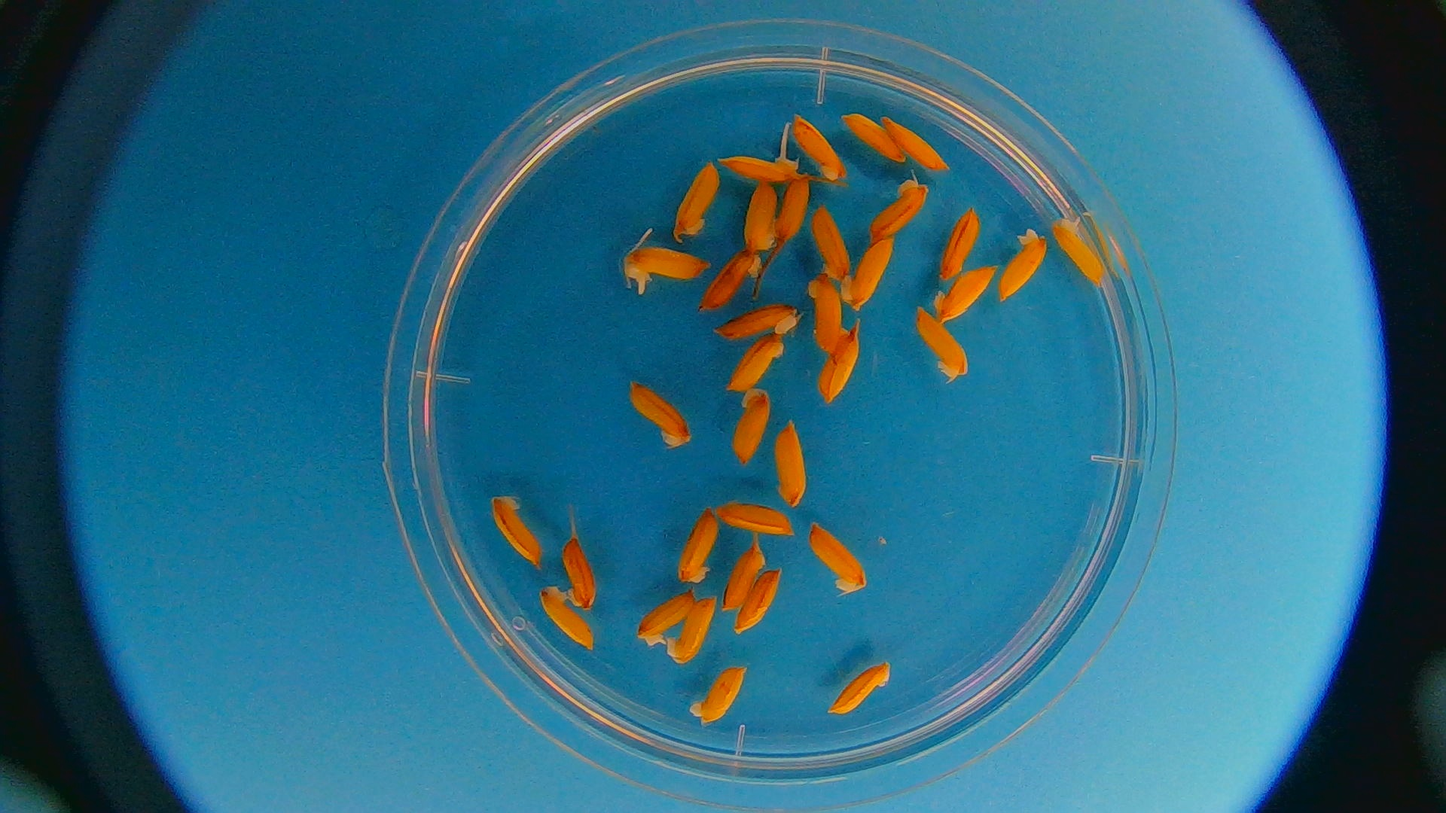no: (1047, 206, 1108, 287), (911, 303, 974, 380), (626, 381, 693, 449), (669, 157, 725, 238), (807, 521, 869, 594), (840, 236, 897, 309), (883, 111, 949, 173), (540, 585, 595, 658), (702, 251, 764, 315), (935, 257, 996, 321), (722, 335, 788, 394), (1001, 224, 1050, 303), (712, 493, 795, 539), (826, 661, 894, 717), (764, 422, 808, 507), (871, 180, 929, 242), (676, 504, 721, 583), (493, 492, 541, 565), (664, 597, 716, 663), (816, 327, 859, 406), (807, 203, 851, 280), (691, 666, 747, 726), (792, 117, 844, 181), (724, 540, 767, 617), (636, 591, 696, 646), (739, 176, 779, 255), (728, 389, 770, 464), (939, 206, 980, 282), (844, 112, 903, 164), (716, 304, 801, 338), (736, 572, 780, 634), (563, 534, 597, 611), (778, 174, 811, 249), (774, 177, 806, 247)
yes: (625, 241, 709, 293), (727, 151, 800, 183)
